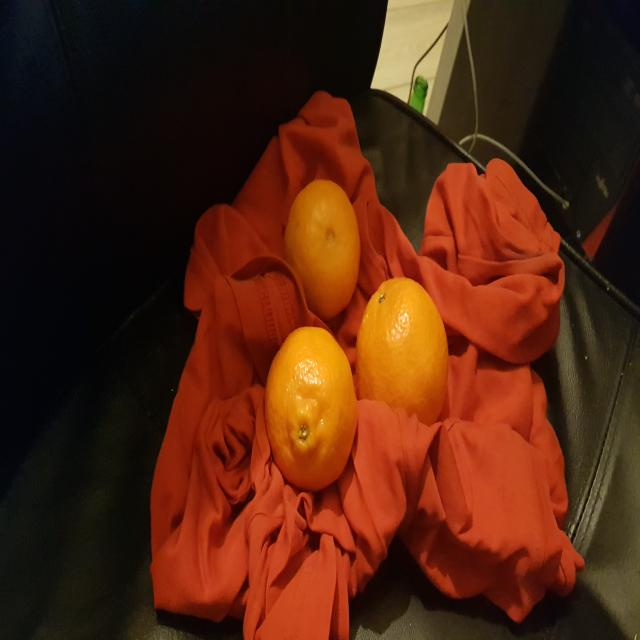Orange: (264, 327, 357, 492), (353, 277, 451, 428), (283, 181, 361, 319)
